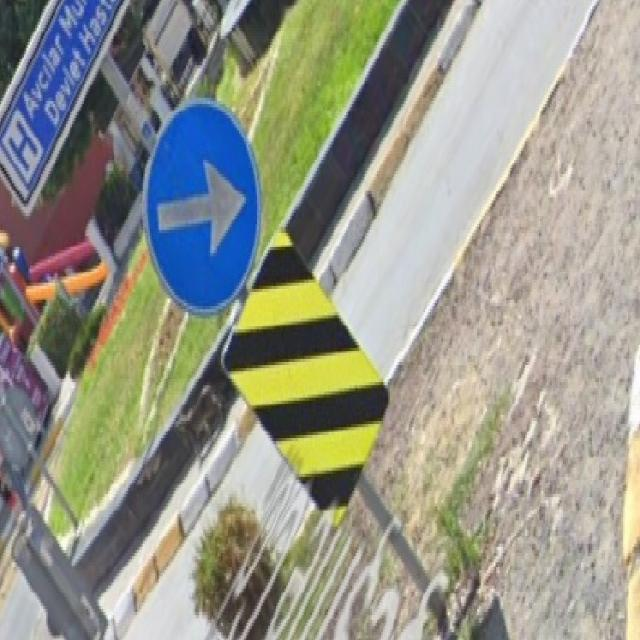Turn Right: (140, 98, 267, 323)
